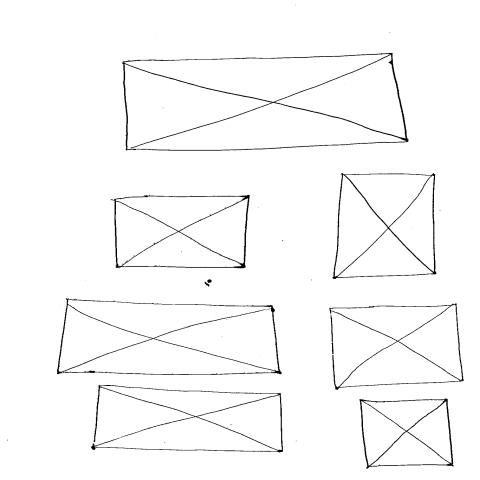Image: (123, 53, 411, 153), (54, 300, 284, 377), (91, 384, 287, 454), (331, 304, 464, 393), (331, 172, 439, 281), (112, 194, 254, 271), (358, 400, 456, 470)
